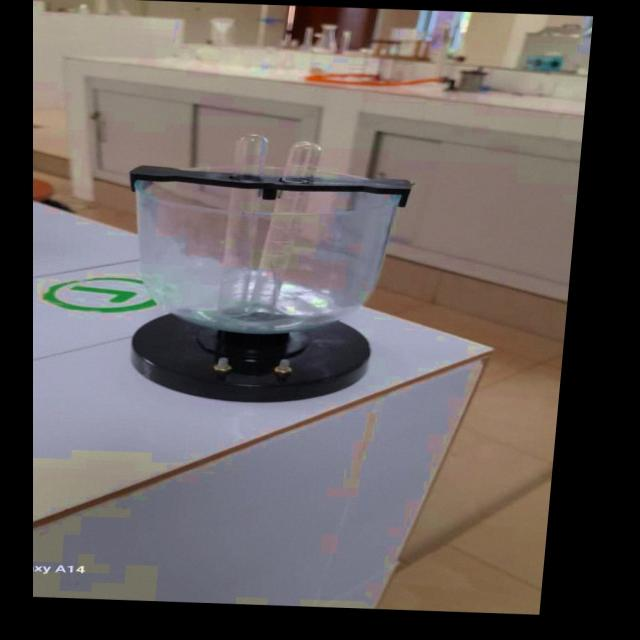Electrolyzer: (78, 126, 426, 412)
